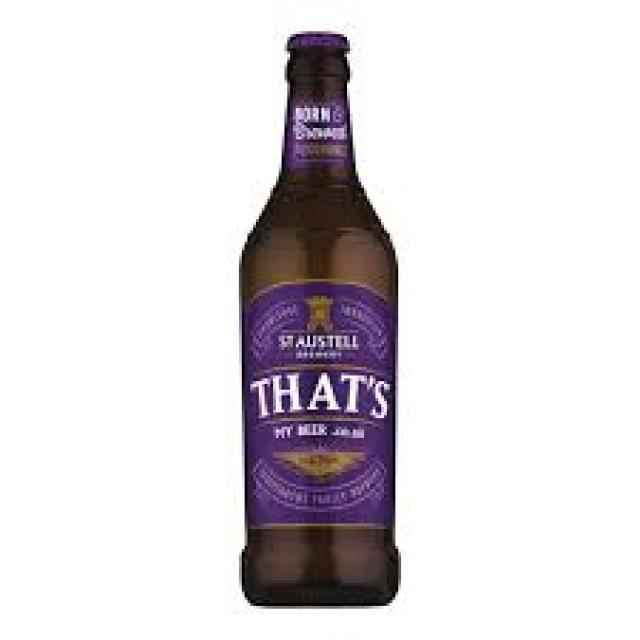glass: (236, 46, 401, 603)
metal: (282, 29, 344, 49)
